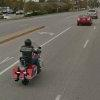Motorcycle: (13, 35, 48, 90)
